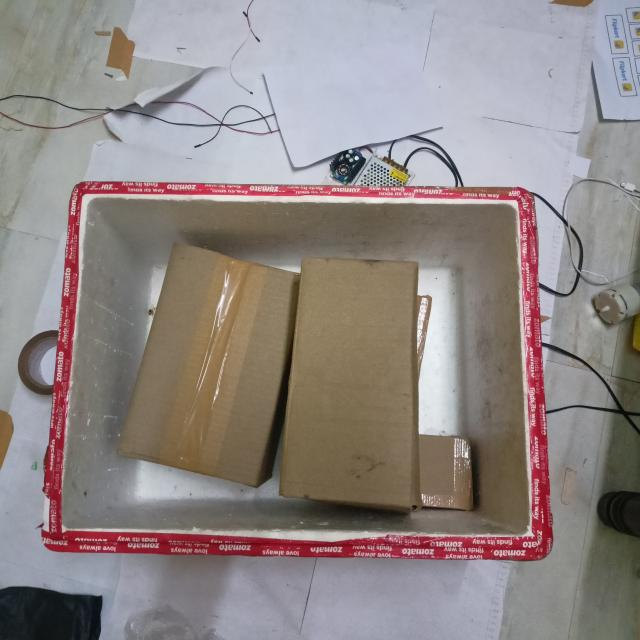box: (105, 242, 304, 501), (273, 254, 426, 515)
